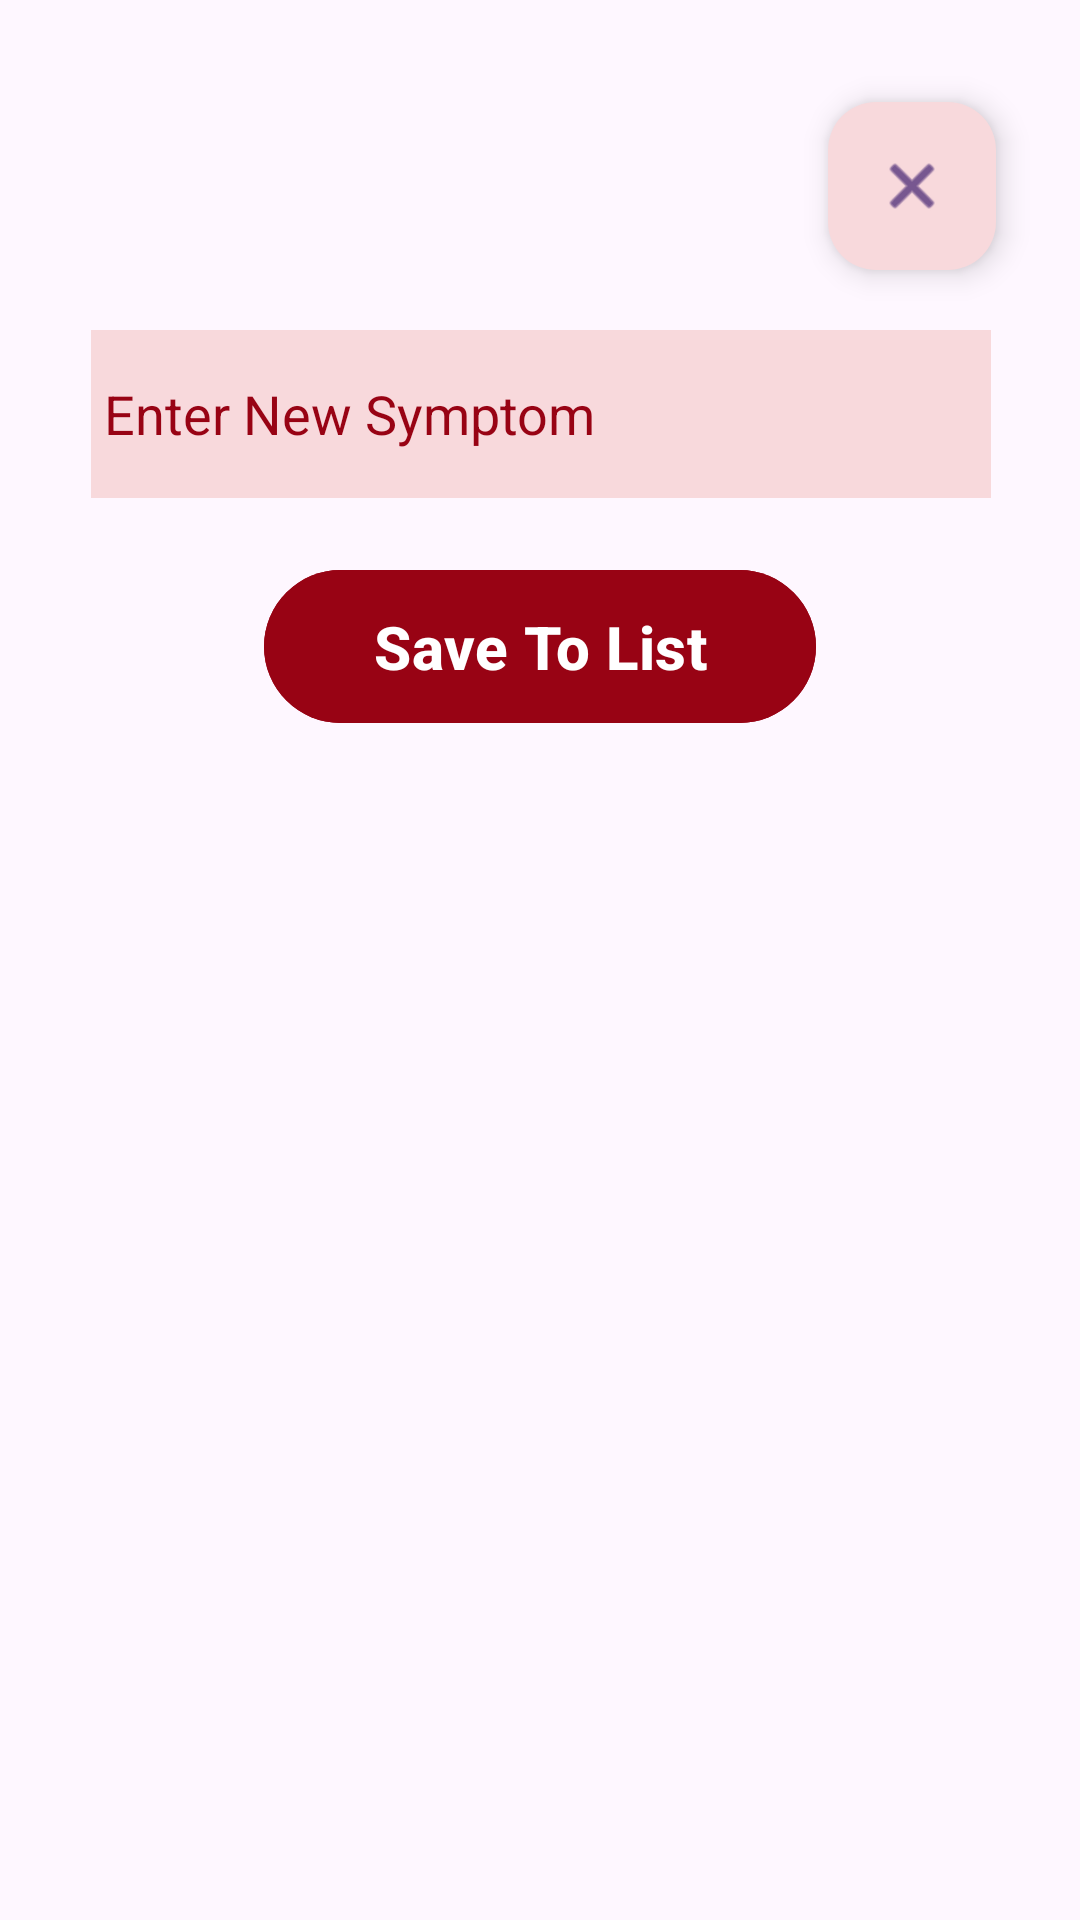

Icons on this 1080*1920 Android screen, each with the point to tap as (x,y):
close clear cancel: (913,187)
